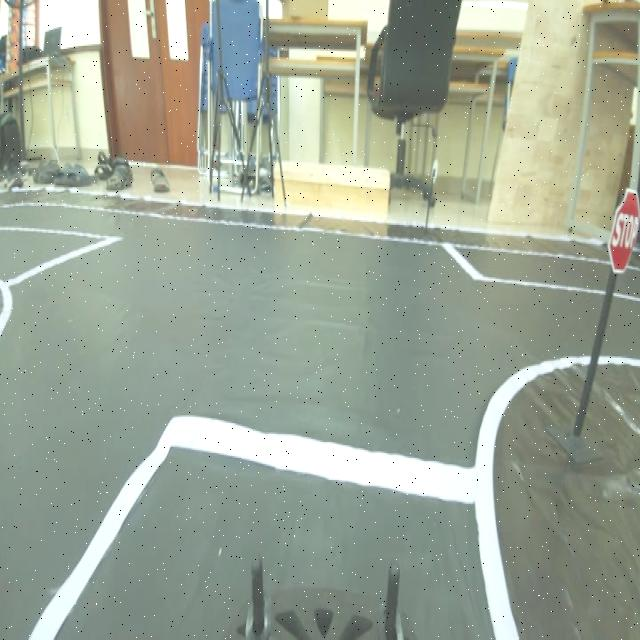stop: (606, 191, 640, 260)
